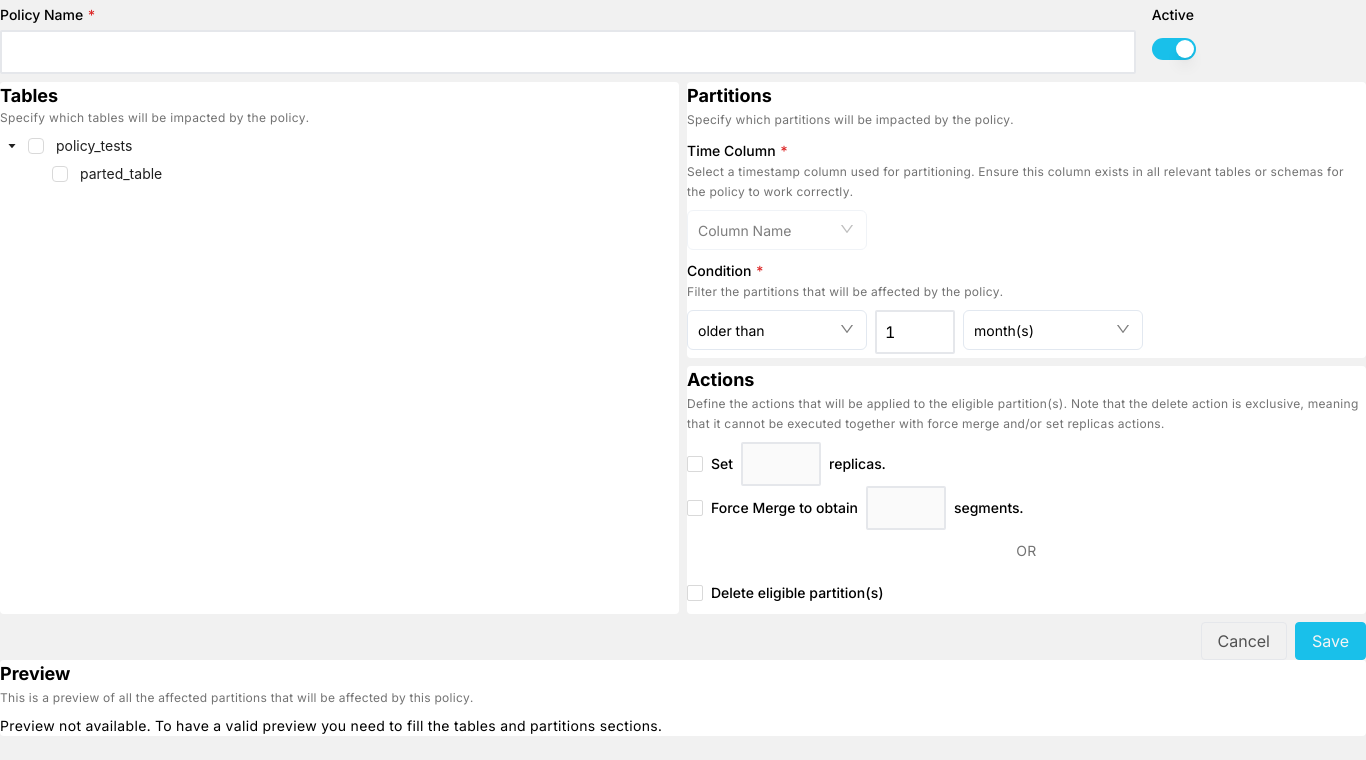
Scenario: The "PolicyForm" component › the "Actions" field › the "set replicas" action › gives validation error if enabled but value is empty
Click the checkbox with test id "setReplicas-enabled" at (695, 464), box [687, 456, 703, 472]
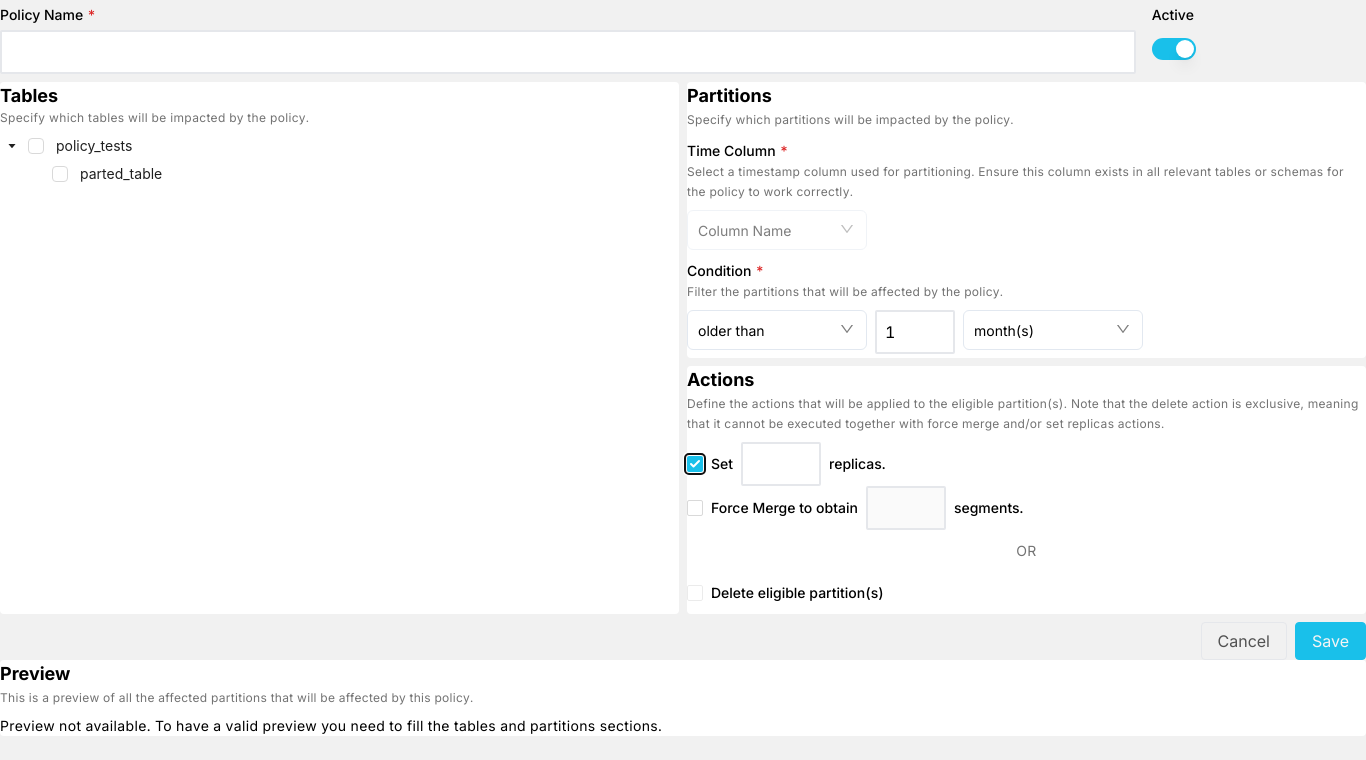
Click the button "Save" at (1330, 641), box [1295, 622, 1365, 660]
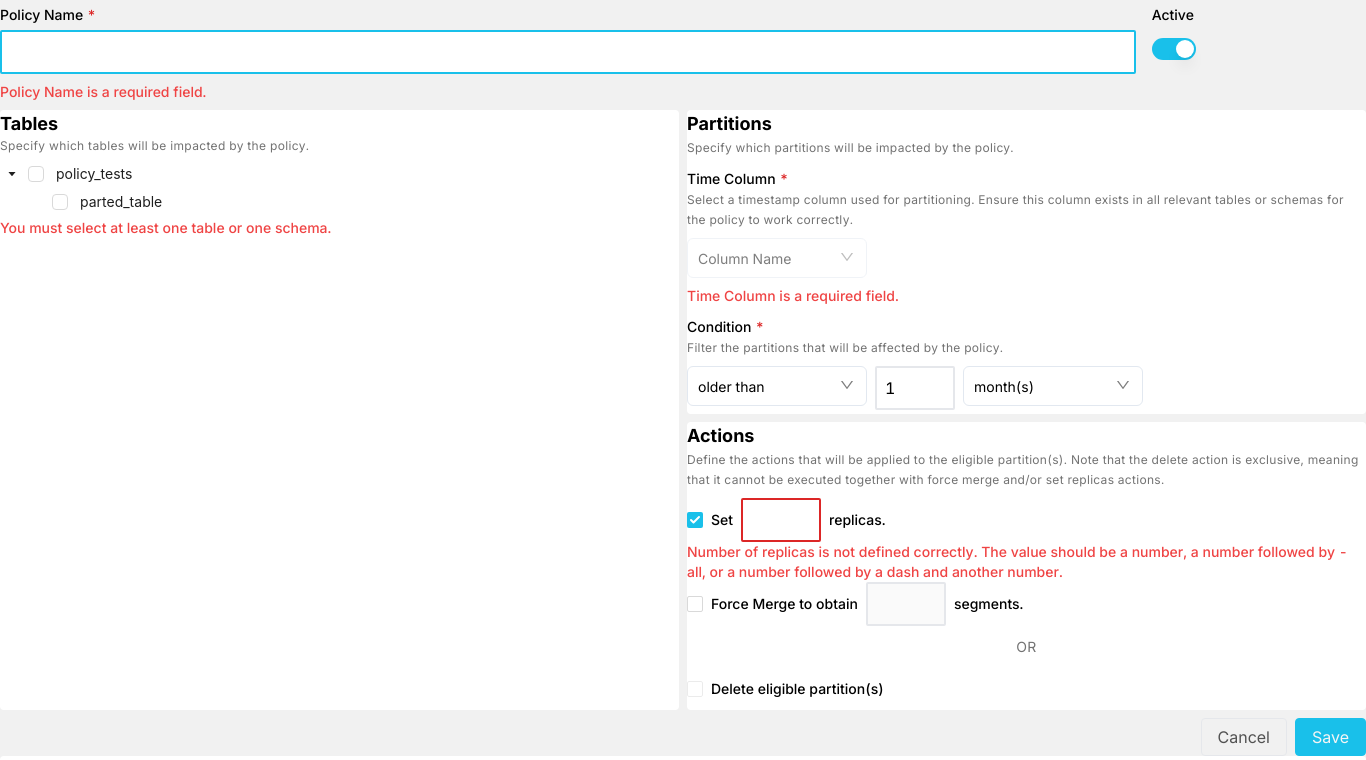
Expected: the text "Number of replicas is not defined correctly. The value should be a number, a number followed by -all, or a number follow" is shown, [687, 543, 1348, 580]
